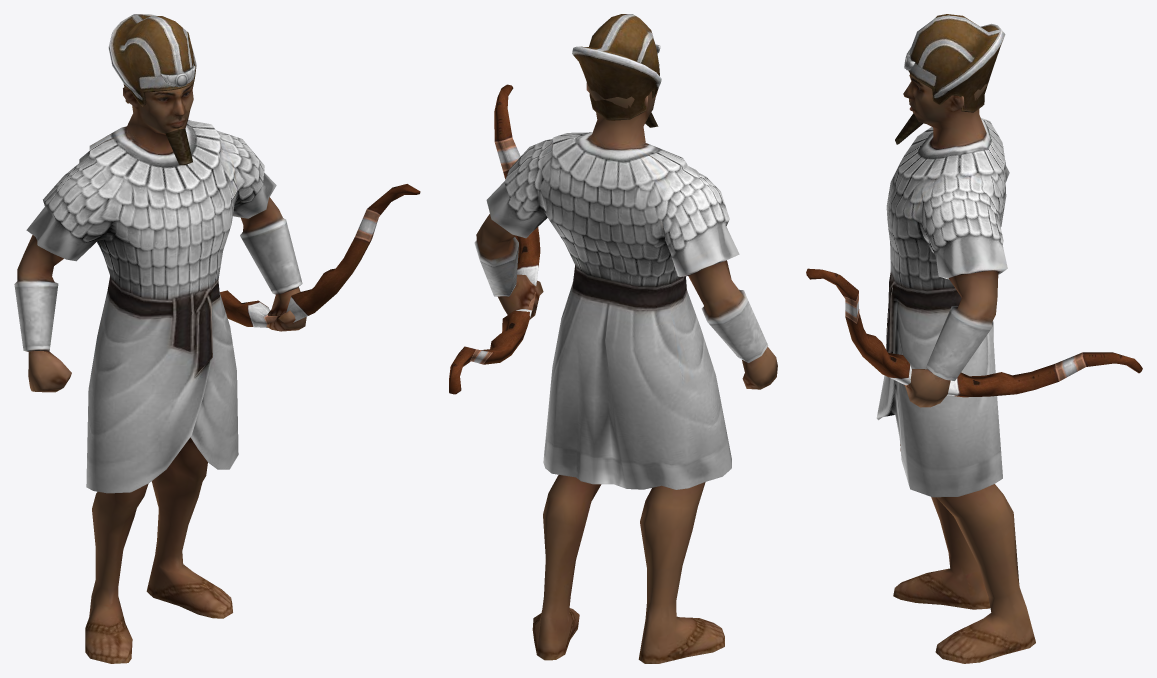
Rendered from rider-heavychariotarchers.glb.
3 renders of one model, left to right at view 1: azimuth 30°, elevation 25°; view 2: azimuth 150°, elevation 25°; view 3: azimuth 270°, elevation 25°, orthographic.
Bounding box in the file's own units: 1.2 × 2.14 × 1.07.
3 materials, 3 textured.
